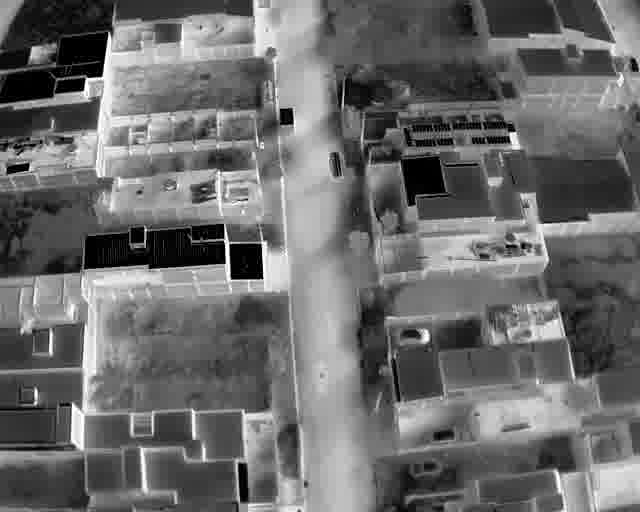car: (407, 457, 443, 480), (424, 427, 469, 445), (393, 327, 429, 348), (328, 150, 343, 180), (625, 53, 639, 78)
